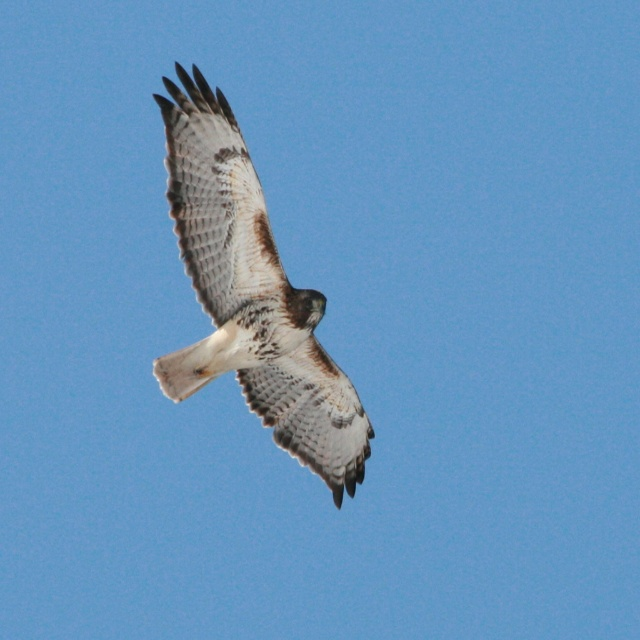Eagle: (152, 57, 380, 515)
